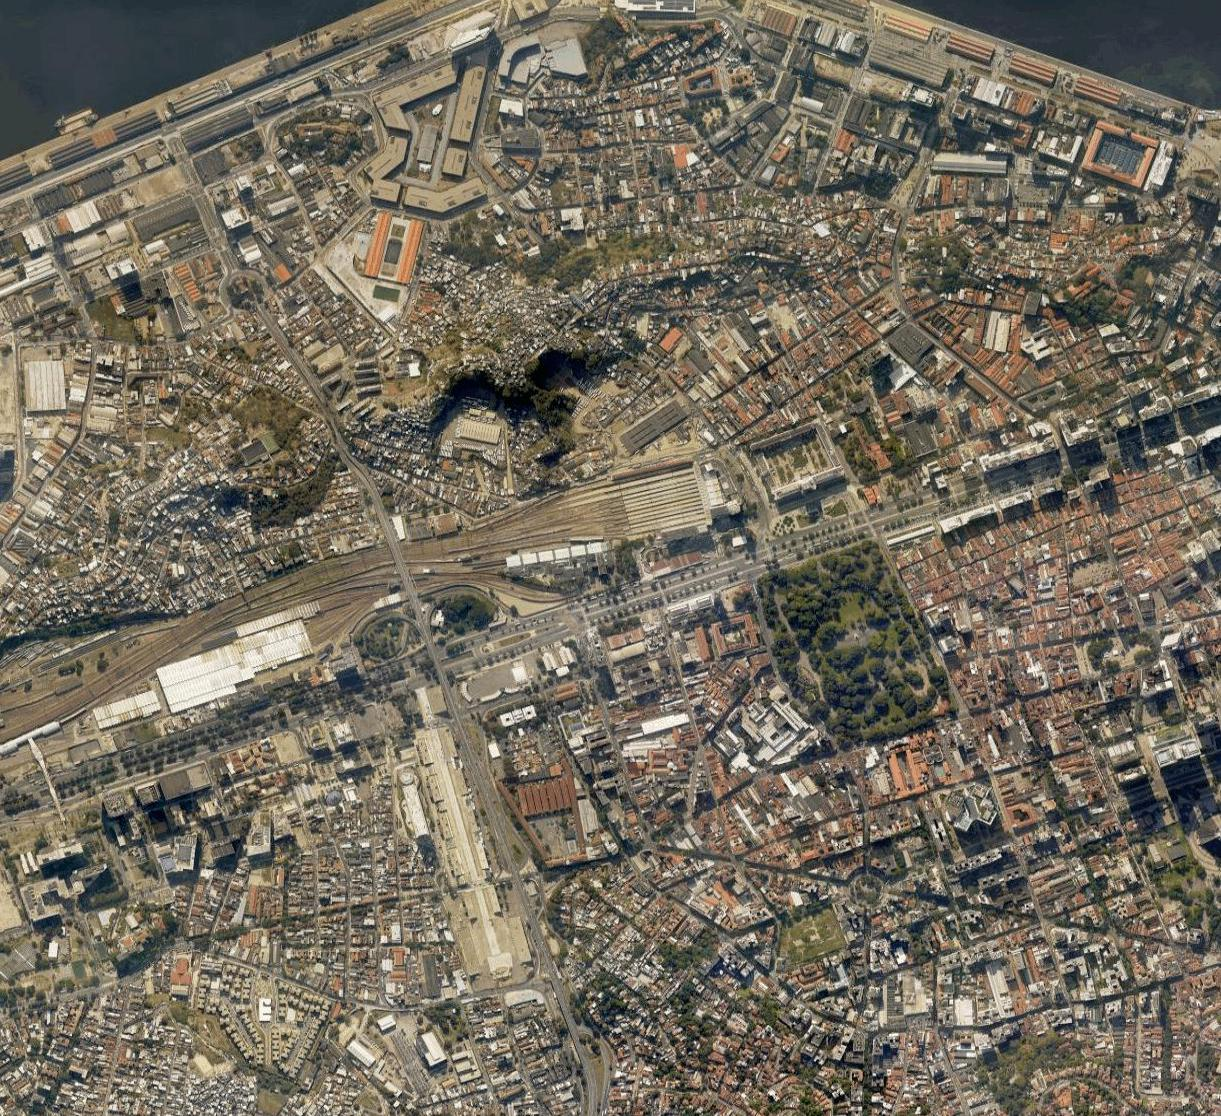bridge: (385, 538, 419, 600)
train_station: (605, 463, 732, 542)
